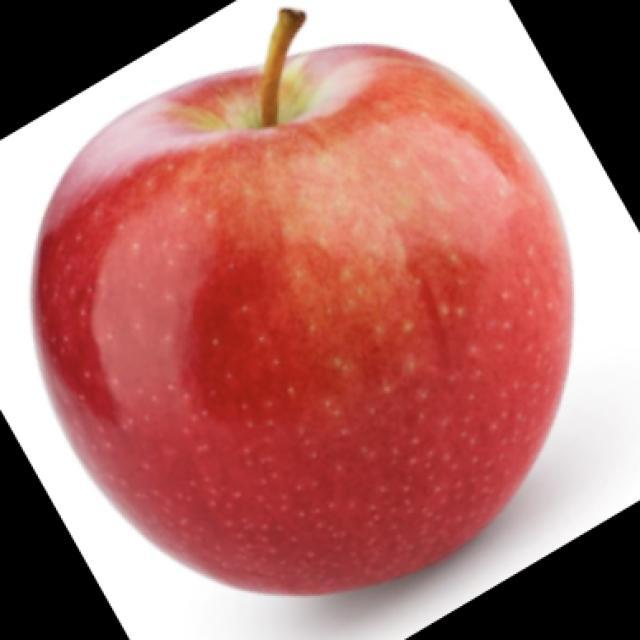Apple: (30, 6, 575, 597)
